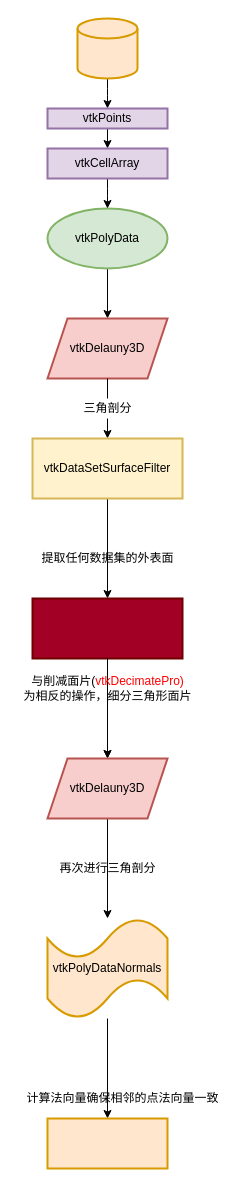
The diagram is 244 pixels wide and 1186 high, and some of its shapes have lost their labels. The centre of each missing label's shape, as x and y in pixels:
"outputPolyData" goes at [107,1143].
"pointCloud" goes at [107,48].
"vtkButterflySubdivisionFilter" goes at [107,628].
